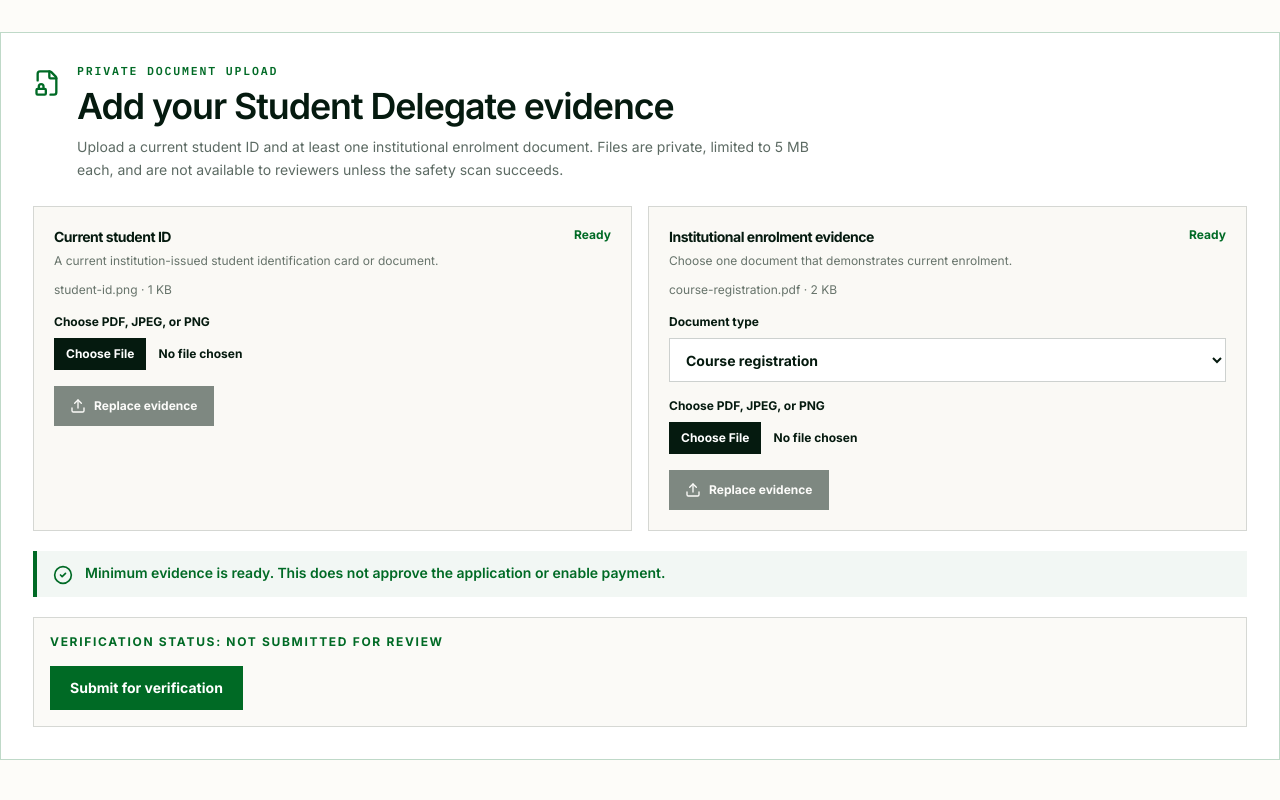
Test: Student verification workflow UI › submits only when server readiness allows it, then freezes evidence while pending
Click the button "Submit for verification" at [146, 688], box [50,666,243,710]
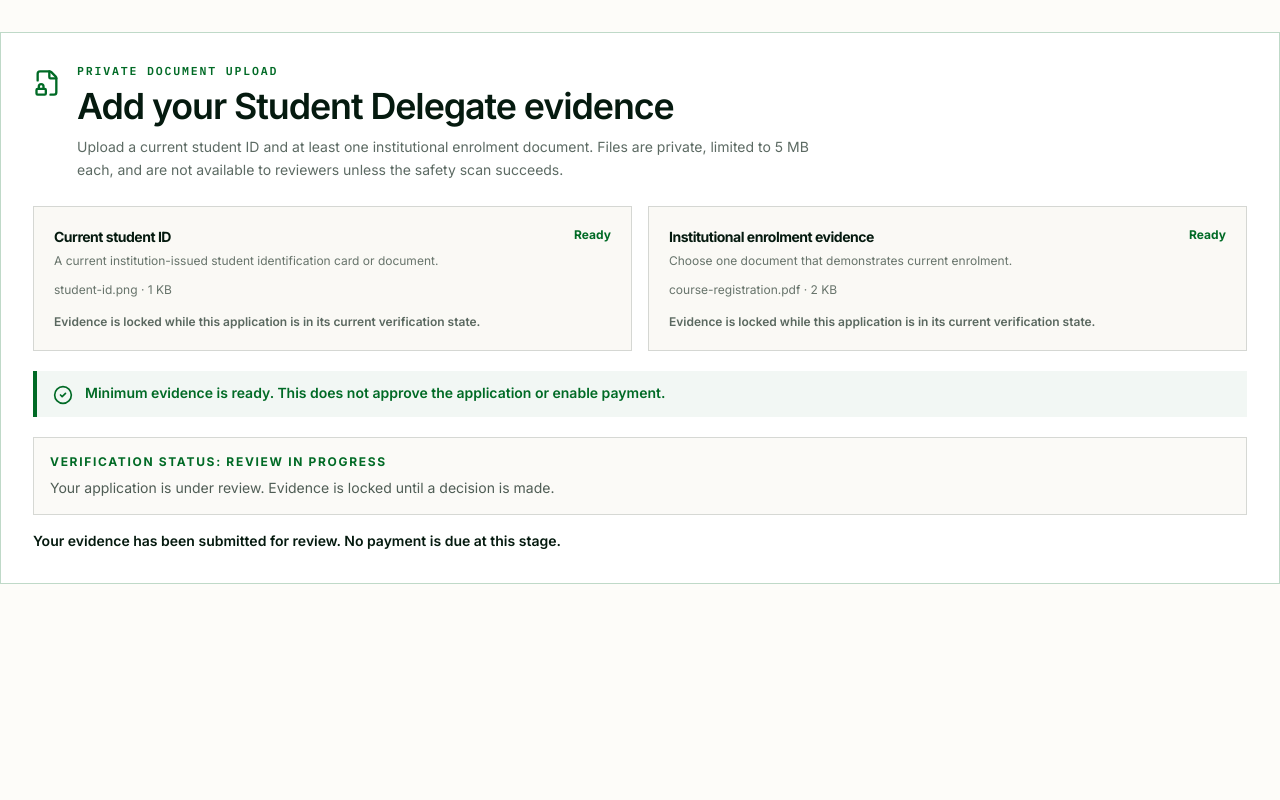
Expected: the text "under review" is shown, [50,479,554,496]
Expected: the label labelled "Choose PDF, JPEG, or PNG" is gone
Expected: the button "Submit for verification" is gone
